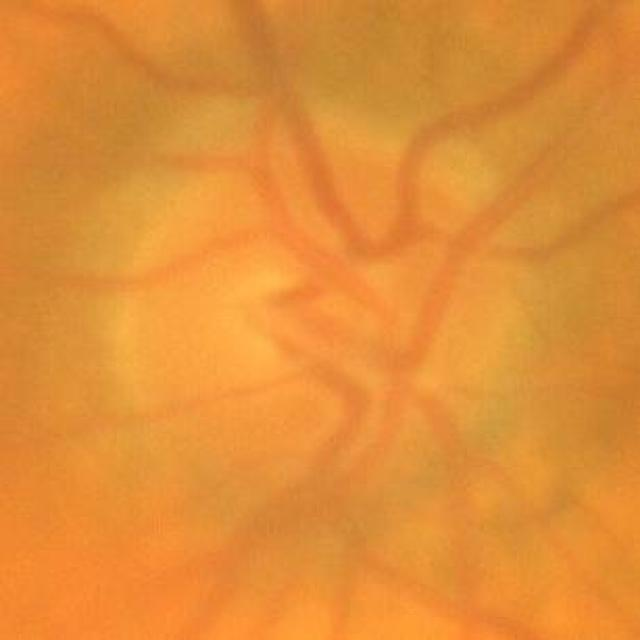OC: (222, 232, 411, 390)
OD: (116, 154, 523, 506)
